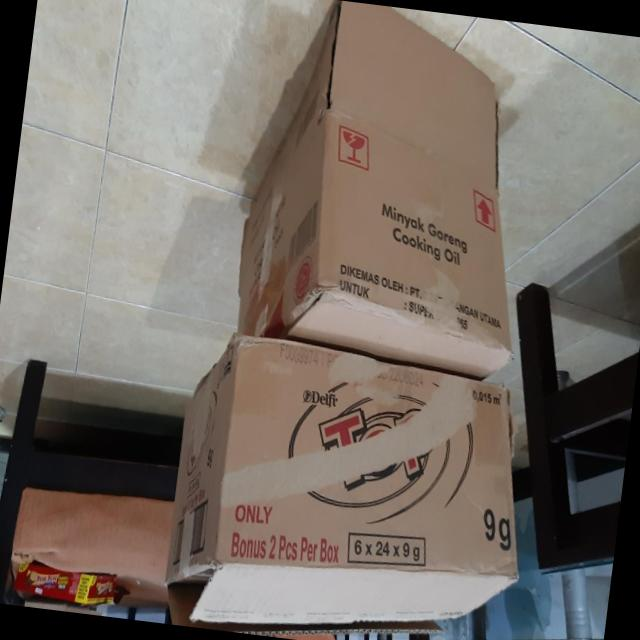Kardus: (157, 0, 586, 640), (226, 0, 555, 385), (158, 326, 544, 640)
